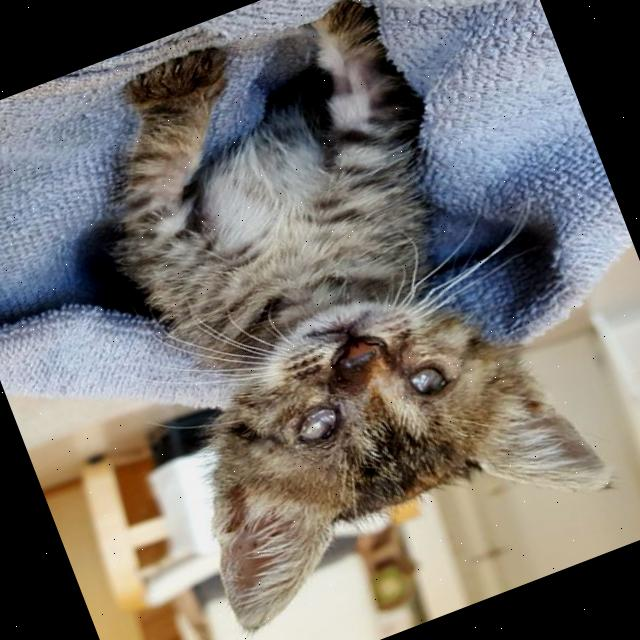cat-eye: (280, 393, 357, 460), (388, 352, 467, 414)
